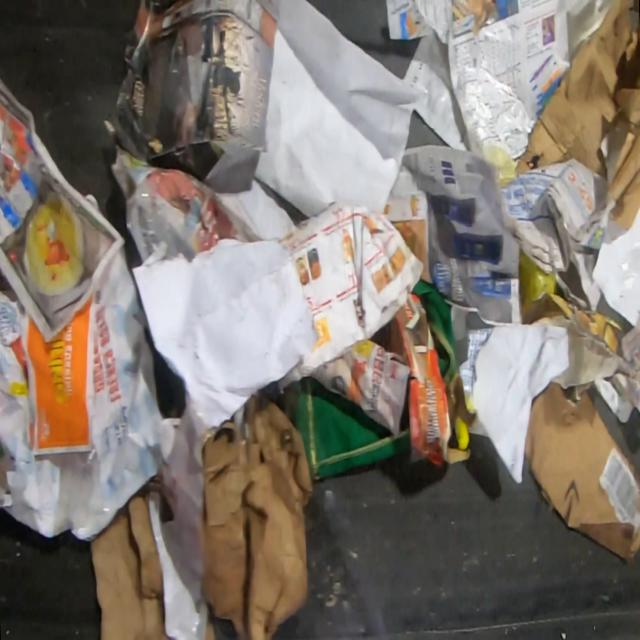cardboard: (514, 1, 640, 231), (205, 390, 314, 640), (526, 380, 639, 562), (91, 488, 166, 640), (203, 612, 216, 640)
rigid_plastic: (293, 476, 392, 639)
soft_plastic: (124, 187, 203, 266), (56, 450, 110, 532), (520, 249, 556, 310), (487, 144, 514, 190)
